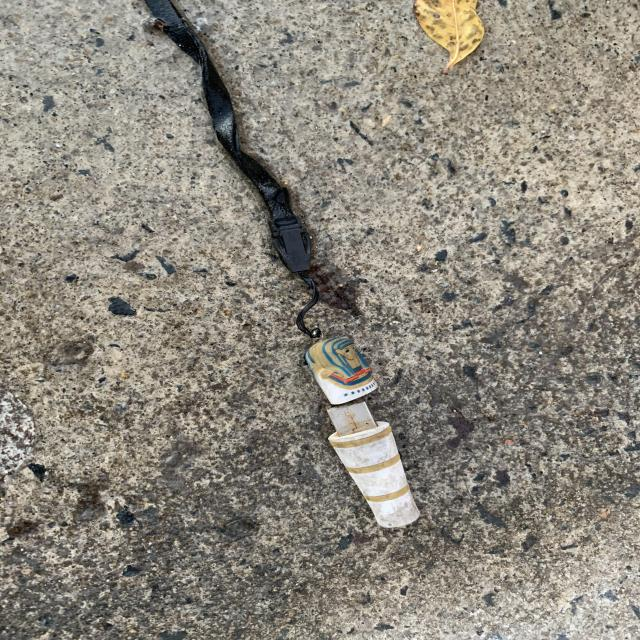litter: (226, 305, 519, 587)
